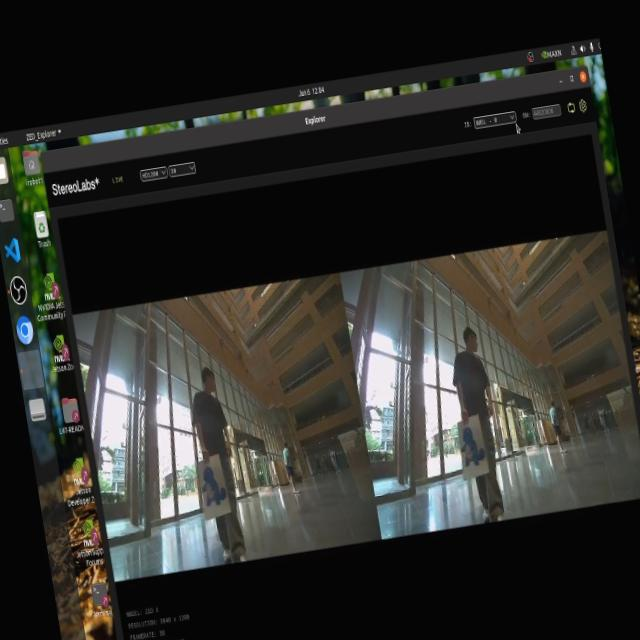blue: (453, 416, 488, 474), (203, 474, 233, 530)
